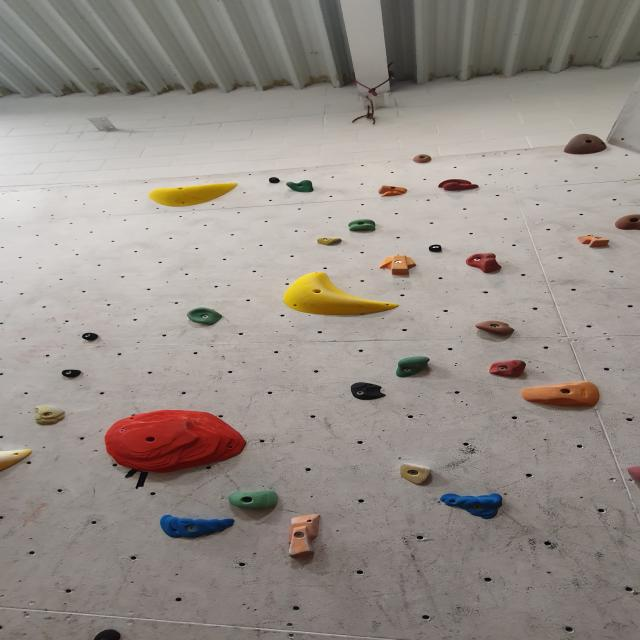Crimp: (101, 411, 252, 474), (518, 382, 604, 408), (156, 516, 238, 539), (440, 496, 505, 521), (397, 463, 435, 485), (30, 406, 67, 427), (436, 178, 482, 192), (375, 184, 411, 198)
Jug: (227, 490, 280, 511), (562, 134, 610, 157), (395, 355, 436, 377), (464, 254, 506, 275), (183, 307, 225, 327), (486, 359, 528, 378), (474, 320, 518, 337), (610, 214, 640, 231), (281, 180, 320, 193), (347, 218, 378, 233), (409, 153, 436, 164)
Pinch: (286, 510, 326, 560), (380, 253, 416, 276), (574, 234, 619, 249), (313, 236, 346, 248), (77, 331, 107, 343), (60, 368, 86, 378), (426, 242, 444, 255), (263, 175, 282, 185)
Sloper: (282, 272, 404, 318), (145, 181, 241, 207), (0, 448, 36, 474), (346, 382, 390, 400)
